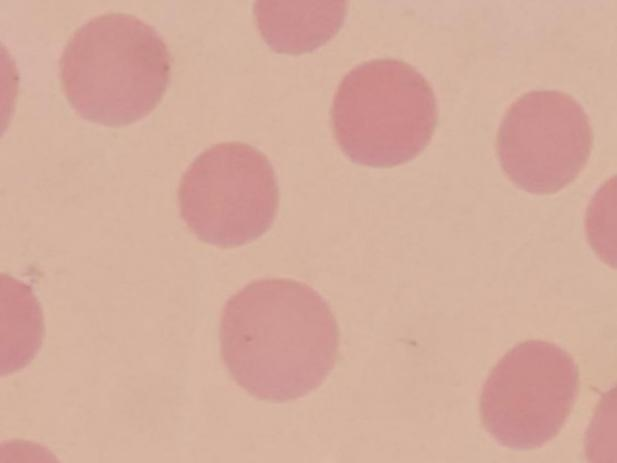Uninfected: (219, 280, 340, 405), (59, 12, 168, 128), (331, 57, 436, 171), (176, 140, 281, 246), (479, 339, 577, 448), (494, 90, 591, 196), (254, 0, 353, 58)
